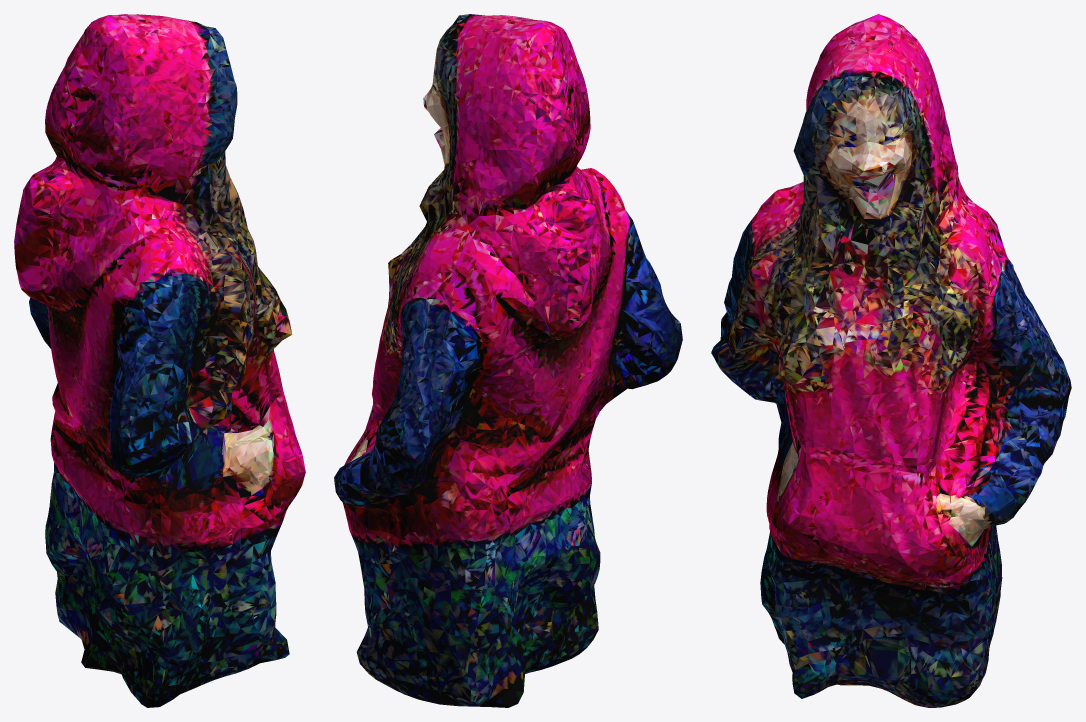
File: girl_hoodie-scribble.glb
3 views of the same model, side by side, from view 1: azimuth 30°, elevation 25°; view 2: azimuth 150°, elevation 25°; view 3: azimuth 270°, elevation 25° (orthographic). The views are drawn at different scales.
Parts seen in each view (by area): view 1: extracted_mesh; view 2: extracted_mesh; view 3: extracted_mesh.
Boxes of the visible parts, x1,y1,x2,y2 form: extracted_mesh: (14,14,305,707); extracted_mesh: (334,14,682,707); extracted_mesh: (711,14,1071,707).
Size of the model in its own units: 0.4443 by 1.17 by 0.5839.
Materials: 1 (1 with a texture image).
